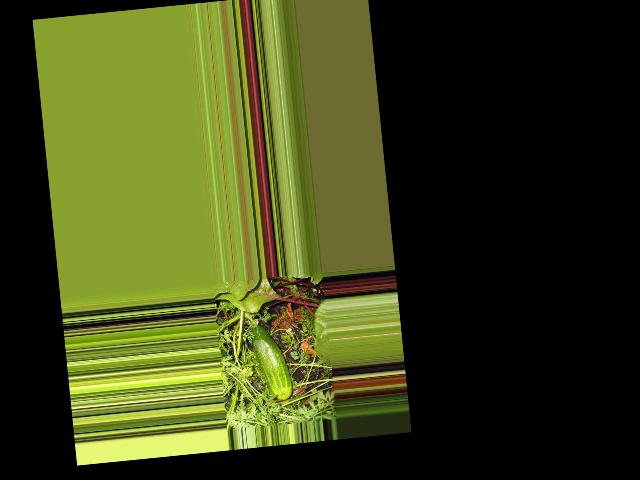cucumber: (248, 322, 293, 401)
